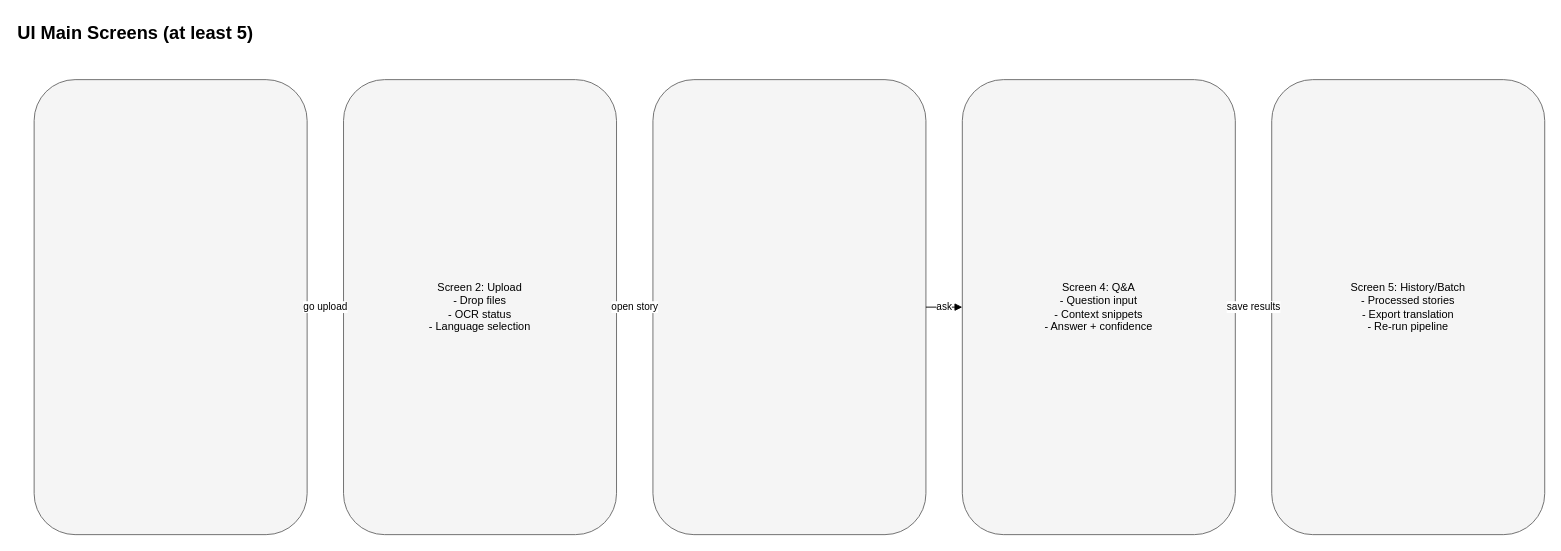
Image size: 1561x551. Some labels were removed from this diagram. Each missing label, with the centre of its shape:
"Screen 1: Home - Trending stories - Search bar - Continue reading" goes at point 170,307.
"Screen 3: Reader - Manga panel view - Translation overlay - Page navigation" goes at point 789,307.
